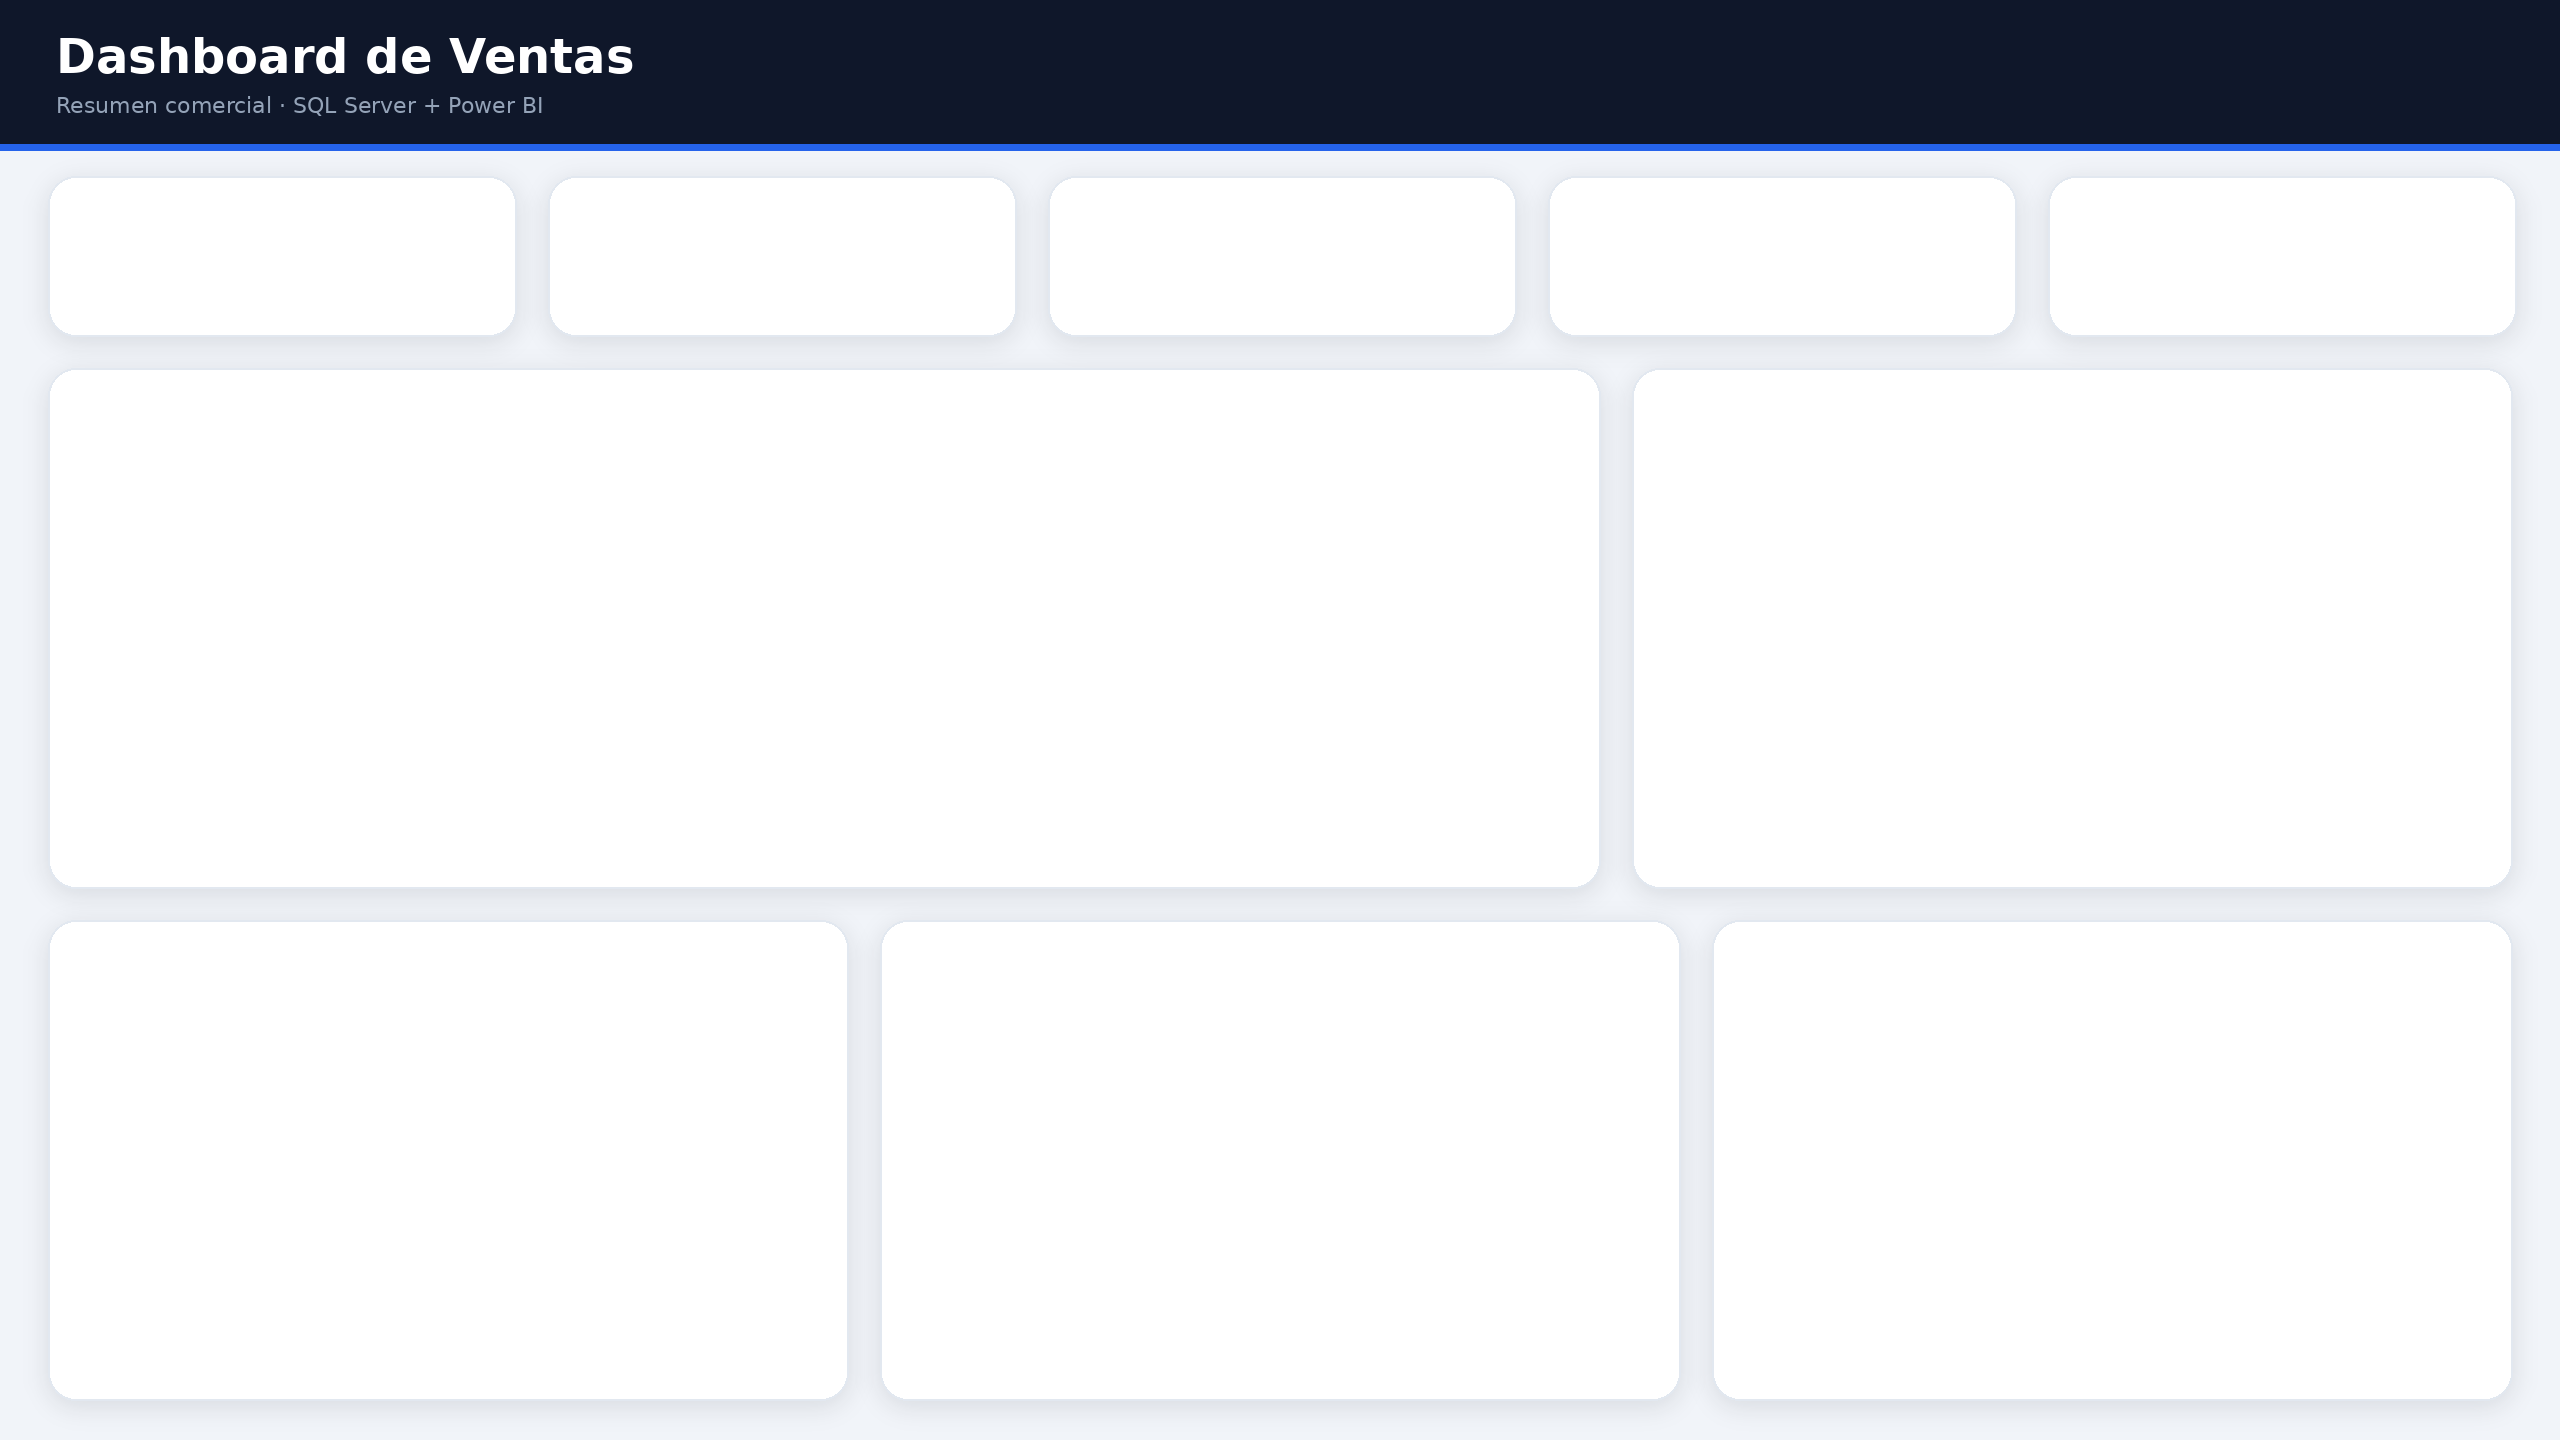

This screenshot's page, from the dashboard's own definition file:
{"tool":"powerbi","page":{"name":"Página 1","canvas":[1280,720],"ordinal":0},"visuals":[{"type":"cardVisual","title":"Ventas YTD","fields":{"Data":["Medidas.Ventas YTD"]},"box":[24,65,234,112],"z":0},{"type":"cardVisual","fields":{"Data":["Medidas.Ventas Totales"]},"box":[274,65,234,112],"z":1000},{"type":"cardVisual","fields":{"Data":["Medidas.Margen %"]},"box":[774,65,234,112],"z":2000},{"type":"cardVisual","fields":{"Data":["Medidas.Utilidad"]},"box":[1024,65,234,112],"z":3000},{"type":"cardVisual","fields":{"Data":["Medidas.Unidades Vendidas"]},"box":[524,65,235,112],"z":4000},{"type":"lineChart","fields":{"Y":["Sum(dim_fecha.mes)","Sum(fact_ventas.total_venta)"]},"box":[24,184,776,260],"z":5000},{"type":"donutChart","fields":{"Y":["Sum(fact_ventas.total_venta)"],"Category":["dim_cliente.segmento"]},"box":[816,184,440,260],"z":6000},{"type":"hundredPercentStackedColumnChart","fields":{"Category":["dim_producto.categoria"],"Y":["Sum(fact_ventas.total_venta)"]},"box":[24,460,400,240],"z":7000},{"type":"funnel","fields":{"Category":["dim_producto.nombre"],"Y":["Medidas.Ventas Totales"]},"box":[440,460,400,240],"z":8000},{"type":"slicer","fields":{"Values":["dim_fecha.anio"]},"box":[955,460,203,90],"z":8001},{"type":"slicer","fields":{"Values":["dim_vendedor.zona"]},"box":[867,550,203,150],"z":8002},{"type":"slicer","fields":{"Values":["dim_producto.categoria"]},"box":[1070,550,186,150],"z":8003}]}

Visuals, with their boxes in screenshot pixels (x1, y1, x2, y2), scaled from the page's 1280x720 canvas onto the 2560x1440 screenshot:
"Ventas YTD" cardVisual: [left=48, top=130, right=516, bottom=354]
cardVisual - Medidas.Ventas Totales: [left=548, top=130, right=1016, bottom=354]
cardVisual - Medidas.Margen %: [left=1548, top=130, right=2016, bottom=354]
cardVisual - Medidas.Utilidad: [left=2048, top=130, right=2516, bottom=354]
cardVisual - Medidas.Unidades Vendidas: [left=1048, top=130, right=1518, bottom=354]
lineChart - Sum(dim_fecha.mes) x Sum(fact_ventas.total_venta): [left=48, top=368, right=1600, bottom=888]
donutChart - Sum(fact_ventas.total_venta) x dim_cliente.segmento: [left=1632, top=368, right=2512, bottom=888]
hundredPercentStackedColumnChart - dim_producto.categoria x Sum(fact_ventas.total_venta): [left=48, top=920, right=848, bottom=1400]
funnel - dim_producto.nombre x Medidas.Ventas Totales: [left=880, top=920, right=1680, bottom=1400]
slicer - dim_fecha.anio: [left=1910, top=920, right=2316, bottom=1100]
slicer - dim_vendedor.zona: [left=1734, top=1100, right=2140, bottom=1400]
slicer - dim_producto.categoria: [left=2140, top=1100, right=2512, bottom=1400]
